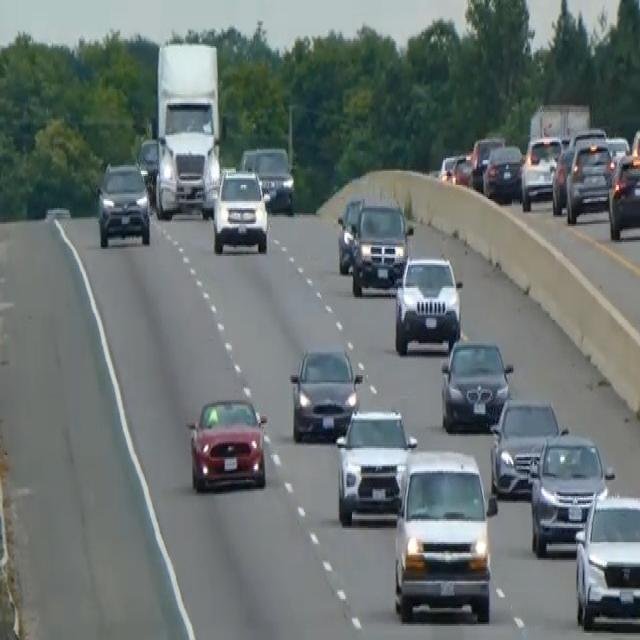car: (527, 428, 613, 556), (334, 406, 417, 524), (573, 491, 639, 629), (185, 393, 268, 492), (489, 394, 562, 498), (288, 343, 363, 443), (439, 336, 513, 432), (393, 252, 462, 354), (349, 196, 412, 295), (211, 166, 269, 254), (95, 158, 151, 247), (565, 137, 615, 222), (239, 144, 295, 213), (520, 132, 564, 210), (607, 149, 639, 240), (482, 142, 523, 203), (336, 196, 363, 274), (469, 135, 504, 190), (136, 135, 159, 201), (437, 149, 464, 185), (452, 151, 474, 187)
lorry: (152, 39, 224, 219)
minivan: (390, 444, 497, 624)
